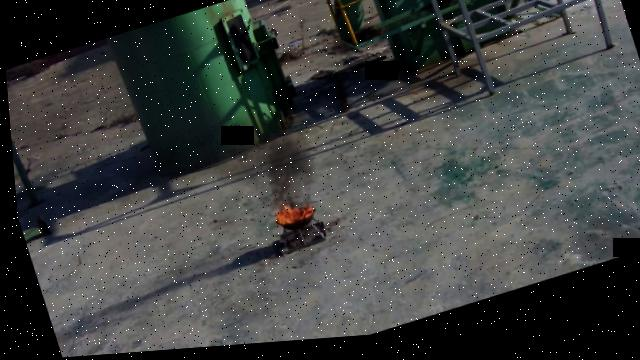fire: (269, 202, 313, 233)
smoke: (244, 128, 326, 222)
